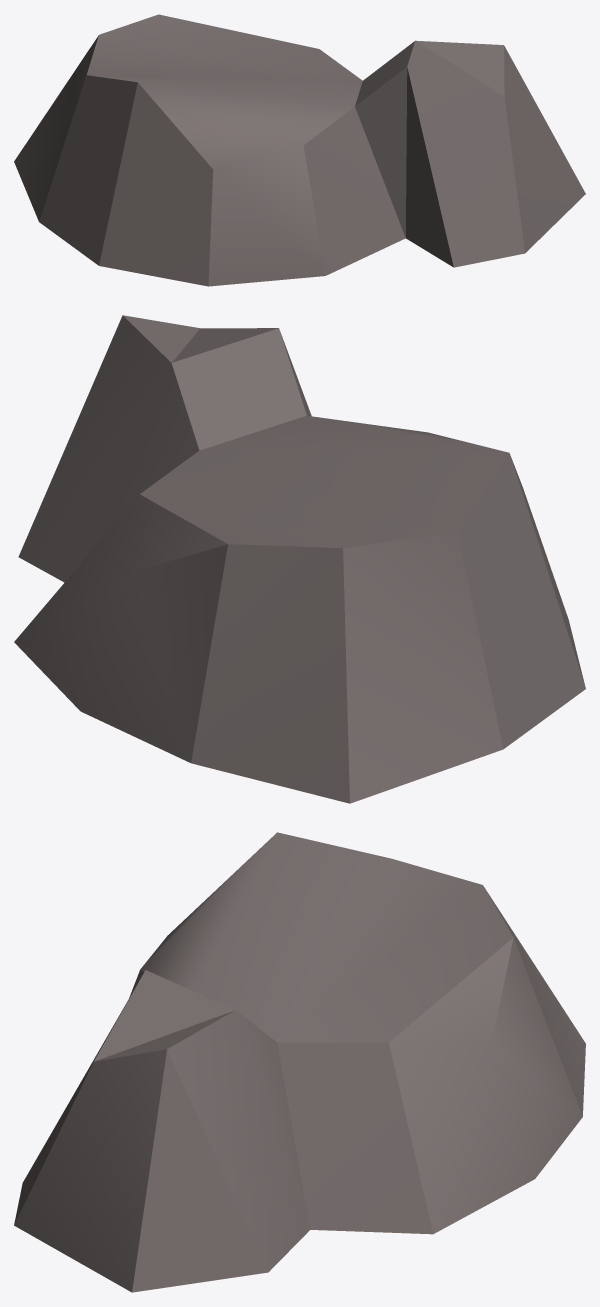
File: Stein_mid.fbx
3 renders of one model, top to bottom at view 1: azimuth 30°, elevation 25°; view 2: azimuth 150°, elevation 25°; view 3: azimuth 270°, elevation 25°, orthographic. The views are drawn at different scales.
Parts seen in each view (by area): view 1: mid_stone; view 2: mid_stone; view 3: mid_stone.
Part boxes in pixels (box(x1,y1,x2,y2)): mid_stone: box(14, 14, 585, 286); mid_stone: box(14, 315, 585, 803); mid_stone: box(14, 832, 585, 1292).
Size of the model in its own units: 135 by 48.73 by 118.
